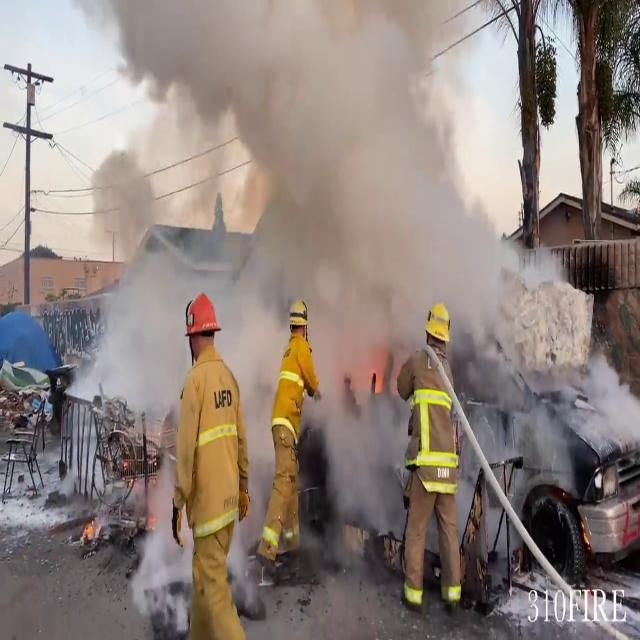Smoke: (68, 0, 590, 428)
